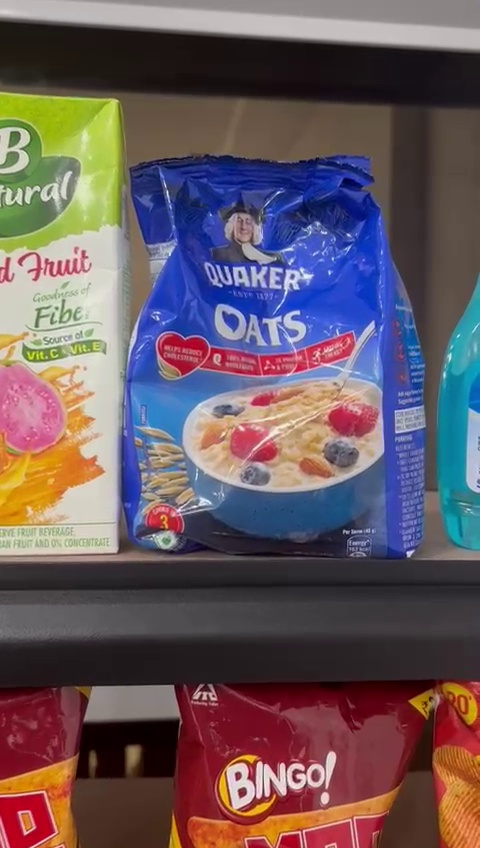Quaker Oats: (121, 155, 434, 561)
